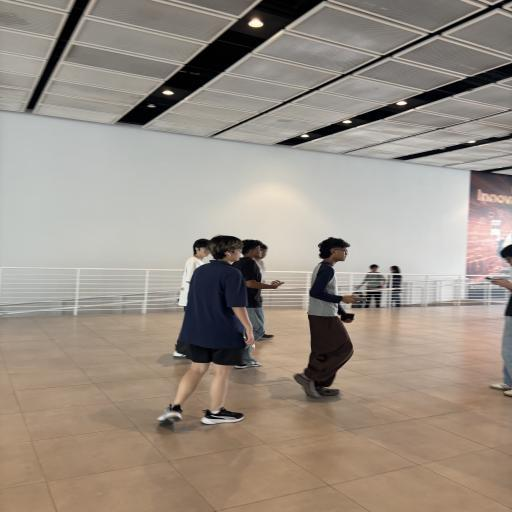person_right: (304, 224, 366, 406), (238, 238, 270, 338)
